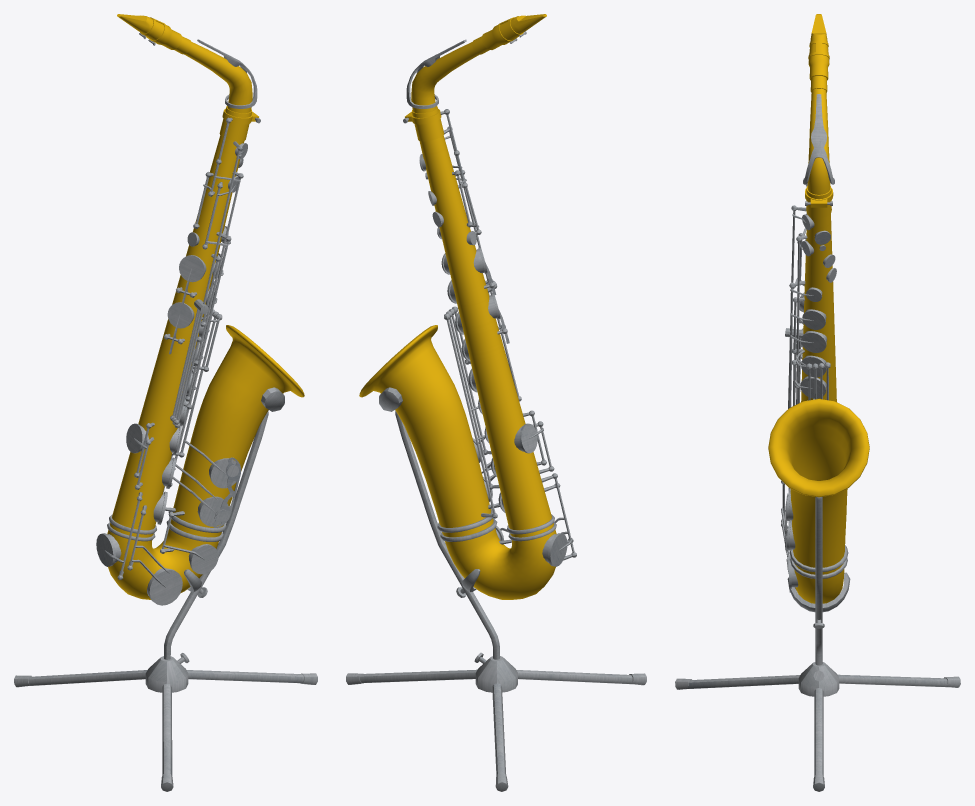
File: Saxo 1.fbx
The picture shows the model from 3 angles, left to right: view 1: azimuth 30°, elevation 25°; view 2: azimuth 150°, elevation 25°; view 3: azimuth 270°, elevation 25°; orthographic projection. The views are drawn at different scales.
Visible parts, largest first — view 1: Saxophone.001, Saxophone; view 2: Saxophone.001, Saxophone; view 3: Saxophone.001, Saxophone.
Part boxes in pixels (box(x1,y1,x2,y2)): Saxophone.001: box(107, 14, 304, 599); Saxophone: box(14, 33, 317, 791); Saxophone.001: box(359, 14, 556, 599); Saxophone: box(346, 31, 646, 791); Saxophone.001: box(768, 14, 869, 603); Saxophone: box(675, 94, 960, 791).
Bounding box in the file's own units: 266 × 789 × 297.
